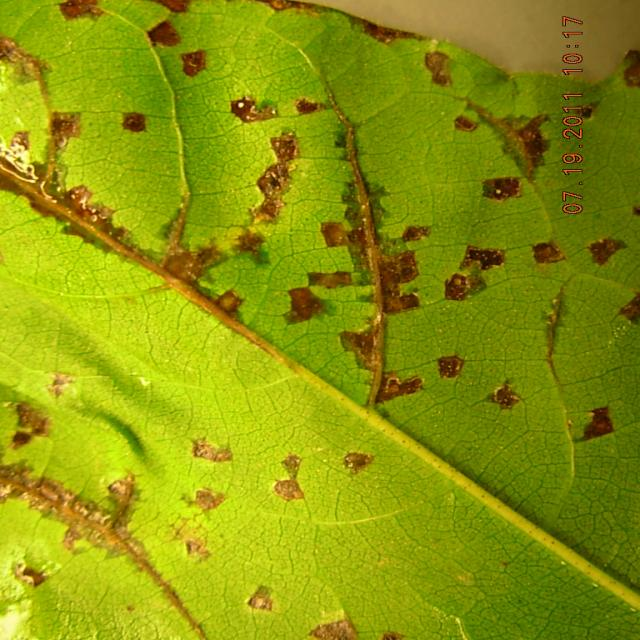Bacterial Blight: (68, 5, 624, 341), (19, 13, 421, 452)
